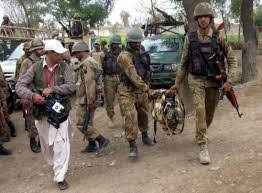gun: (210, 50, 245, 120), (77, 92, 94, 137)
uniform: (181, 26, 225, 147), (117, 46, 157, 143), (67, 56, 105, 147), (99, 48, 118, 117)
